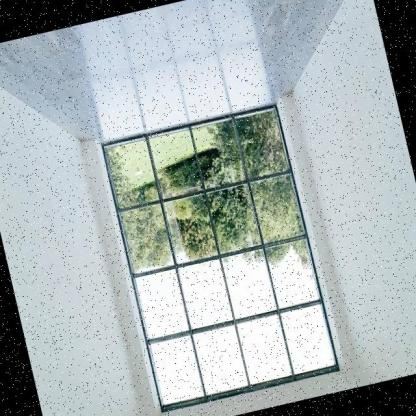Window: (98, 101, 342, 416)
